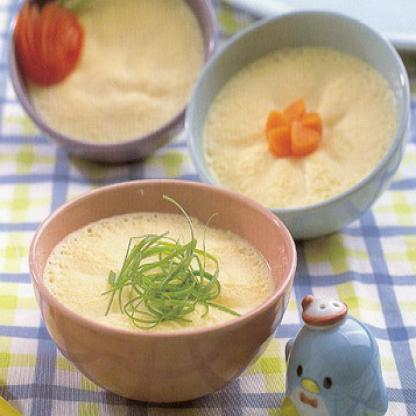Kaithoon: (36, 196, 286, 390), (204, 31, 402, 230), (14, 0, 205, 155)
